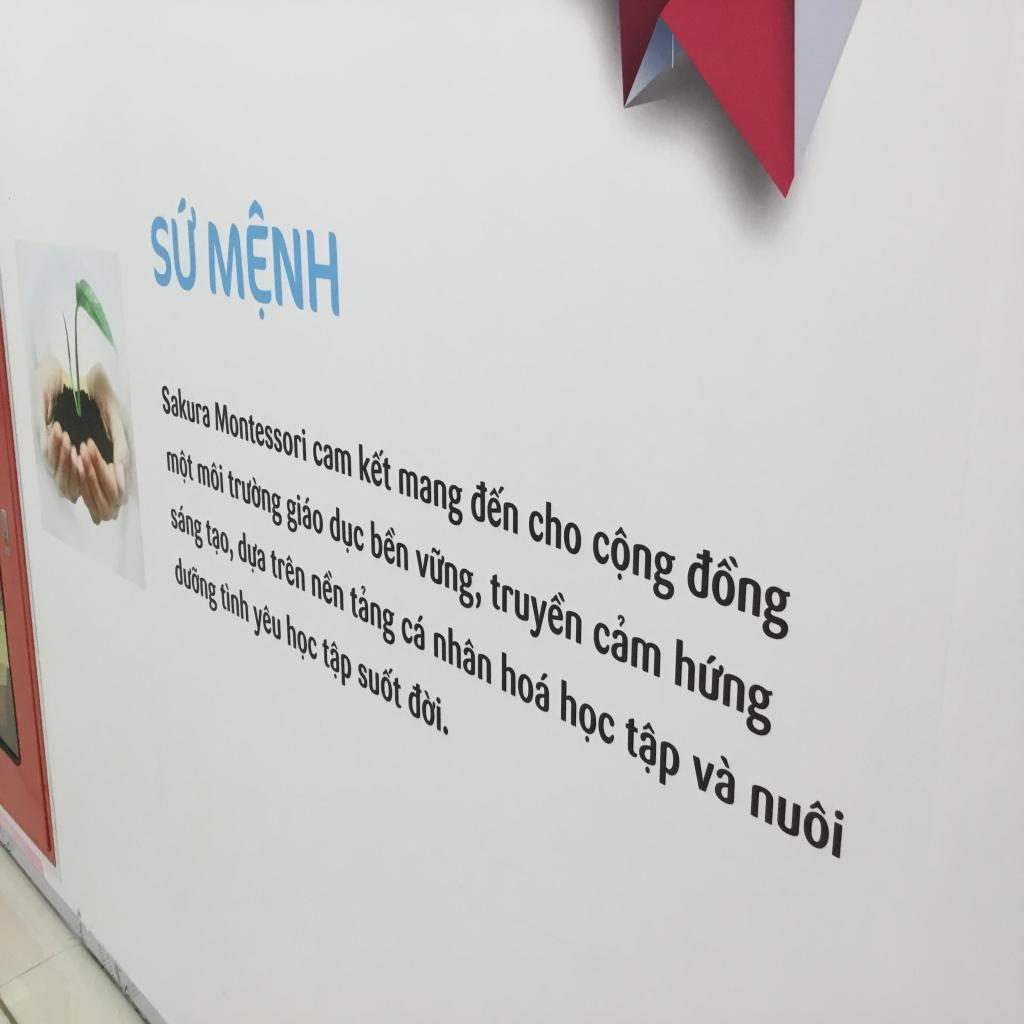text: (203, 202, 343, 329), (681, 533, 795, 653), (670, 626, 780, 744), (746, 768, 850, 866), (488, 562, 585, 653), (593, 510, 678, 606), (411, 530, 485, 620), (215, 397, 308, 467), (591, 602, 666, 686), (619, 704, 683, 797), (143, 197, 200, 296), (429, 613, 495, 691), (556, 670, 615, 753), (398, 462, 463, 526), (526, 491, 581, 564), (468, 466, 518, 540), (346, 577, 396, 651), (353, 646, 403, 720), (690, 742, 742, 812), (500, 648, 553, 716), (168, 546, 218, 616), (228, 466, 282, 529), (157, 377, 210, 429), (365, 513, 410, 573), (316, 628, 353, 696), (326, 504, 365, 564), (354, 438, 394, 496), (266, 544, 308, 598), (285, 486, 325, 542), (283, 606, 318, 669), (311, 433, 352, 482), (168, 495, 203, 551), (251, 593, 282, 655), (310, 562, 345, 615), (236, 524, 266, 584), (218, 577, 250, 629), (201, 518, 235, 564), (163, 442, 194, 491), (195, 455, 225, 498), (400, 601, 424, 653)
